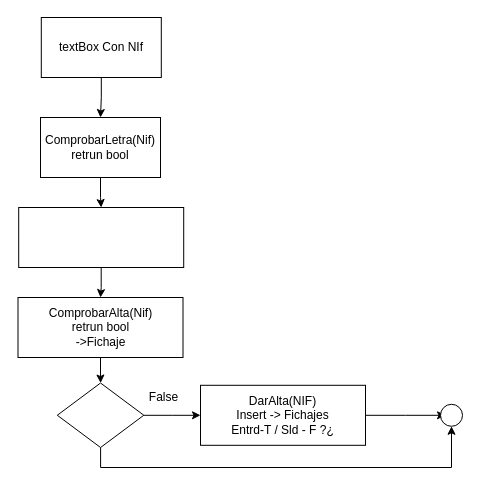
This 480x493 diagram has some shape labels left out. The centre of each missing label's shape, as x and y in pixels:
"ComprobarEmpleado(Nif) retrun bool / obejeto? ->Epleado" goes at point (101, 237).
"True" goes at point (100, 415).
